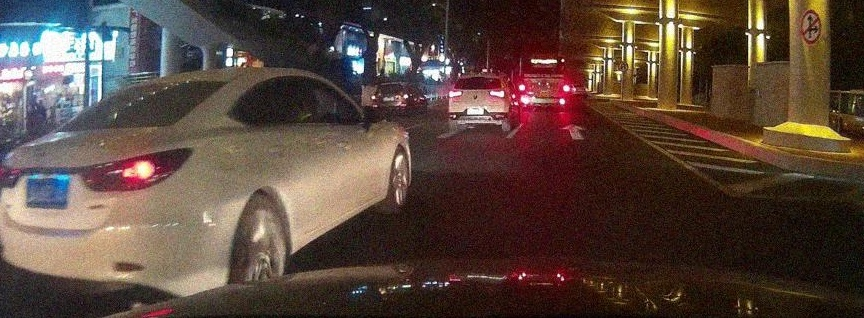L_light: (0, 163, 21, 188), (449, 90, 461, 96), (519, 84, 525, 91)
R_light: (80, 147, 192, 192), (489, 91, 504, 97), (563, 85, 568, 92)
T_light: (143, 84, 170, 88), (541, 57, 549, 60), (473, 78, 483, 79)
night-no: (448, 74, 508, 131), (519, 55, 569, 112)
night-right: (0, 71, 234, 298)
